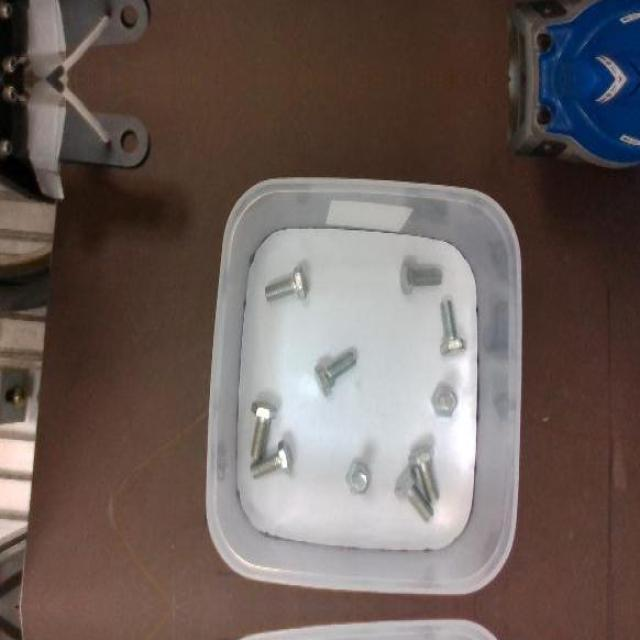screw: (394, 466, 434, 524), (314, 351, 356, 396), (408, 444, 439, 502), (250, 440, 294, 479), (251, 399, 278, 459), (264, 265, 306, 302), (440, 299, 467, 355), (399, 261, 441, 294), (344, 462, 371, 494), (433, 384, 458, 416)
